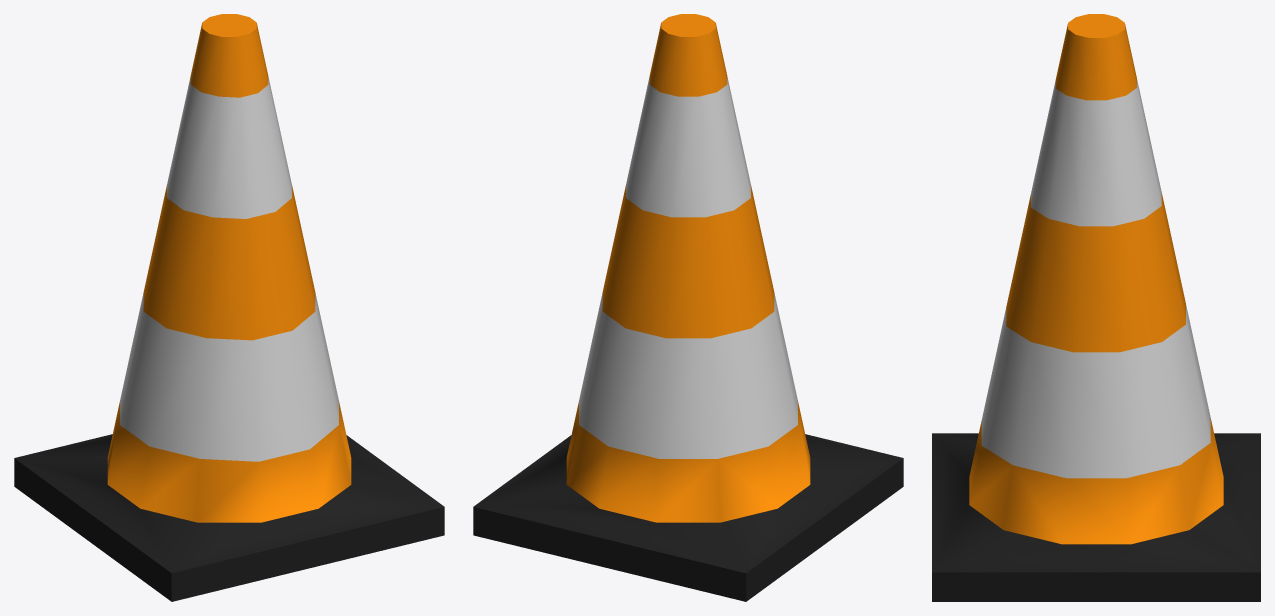
File: Pylon Cone Medium.fbx
The picture shows the model from 3 angles, left to right: view 1: azimuth 30°, elevation 25°; view 2: azimuth 150°, elevation 25°; view 3: azimuth 270°, elevation 25°; orthographic projection. The views are drawn at different scales.
Parts seen in each view (by area): view 1: _(Loose Entity); view 2: _(Loose Entity); view 3: _(Loose Entity).
Part boxes in pixels (x1=…): _(Loose Entity): x1=14, y1=14, x2=444, y2=601; _(Loose Entity): x1=473, y1=14, x2=903, y2=601; _(Loose Entity): x1=932, y1=14, x2=1260, y2=601.
Size of the model in its own units: 50 by 85 by 50.
